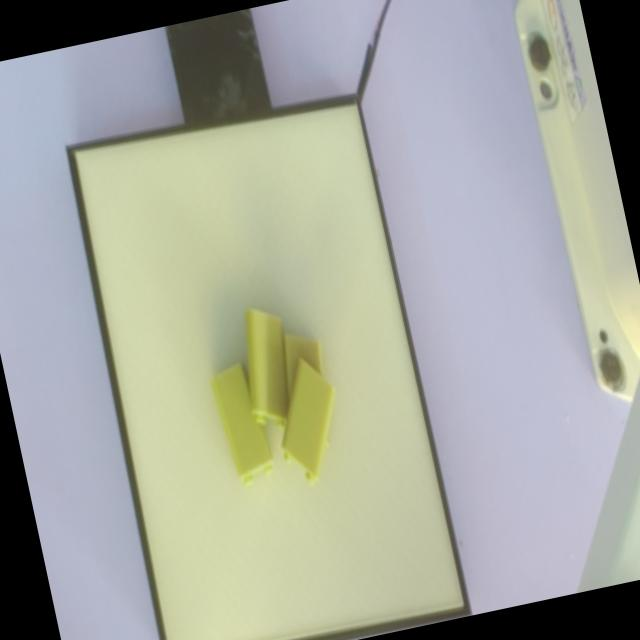bateria: (281, 354, 336, 482)
mesa: (65, 94, 471, 640)
